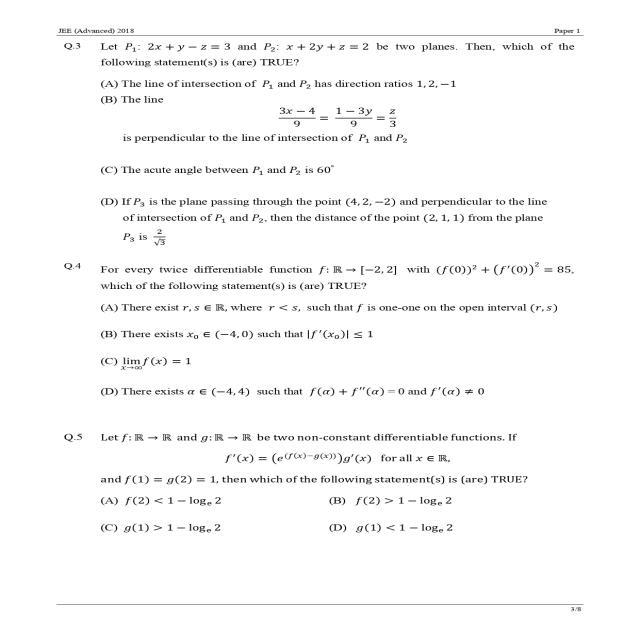Answer_Block: (40, 73, 588, 255), (40, 316, 588, 417), (40, 488, 588, 574)
Question_Answer_Block: (40, 38, 588, 255), (40, 252, 588, 420), (40, 418, 588, 574)
Question_Block: (40, 418, 588, 492), (40, 252, 588, 320), (40, 38, 588, 74)
Question_Paper_Area: (40, 39, 588, 594)
